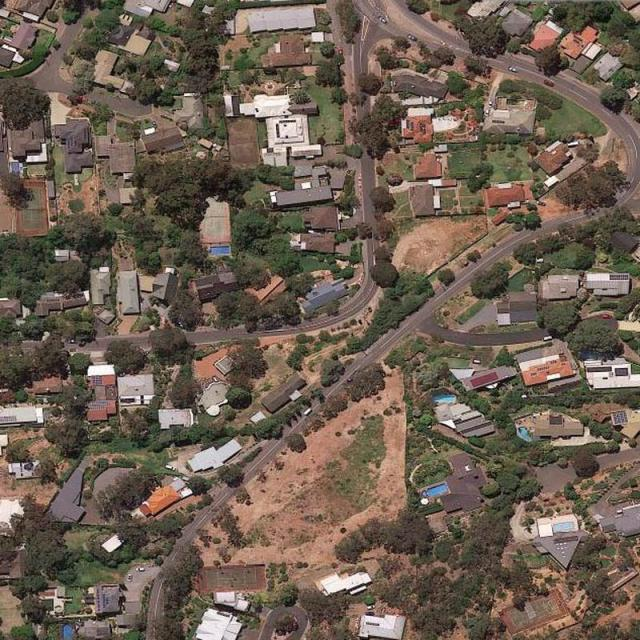vehicle: (163, 463, 176, 472), (544, 79, 555, 88), (407, 34, 418, 42), (302, 407, 313, 415), (536, 199, 547, 206), (126, 572, 133, 582), (507, 66, 518, 72), (541, 336, 552, 342), (378, 16, 387, 23), (602, 314, 612, 319), (488, 96, 493, 106), (135, 567, 146, 571), (486, 108, 490, 116)
